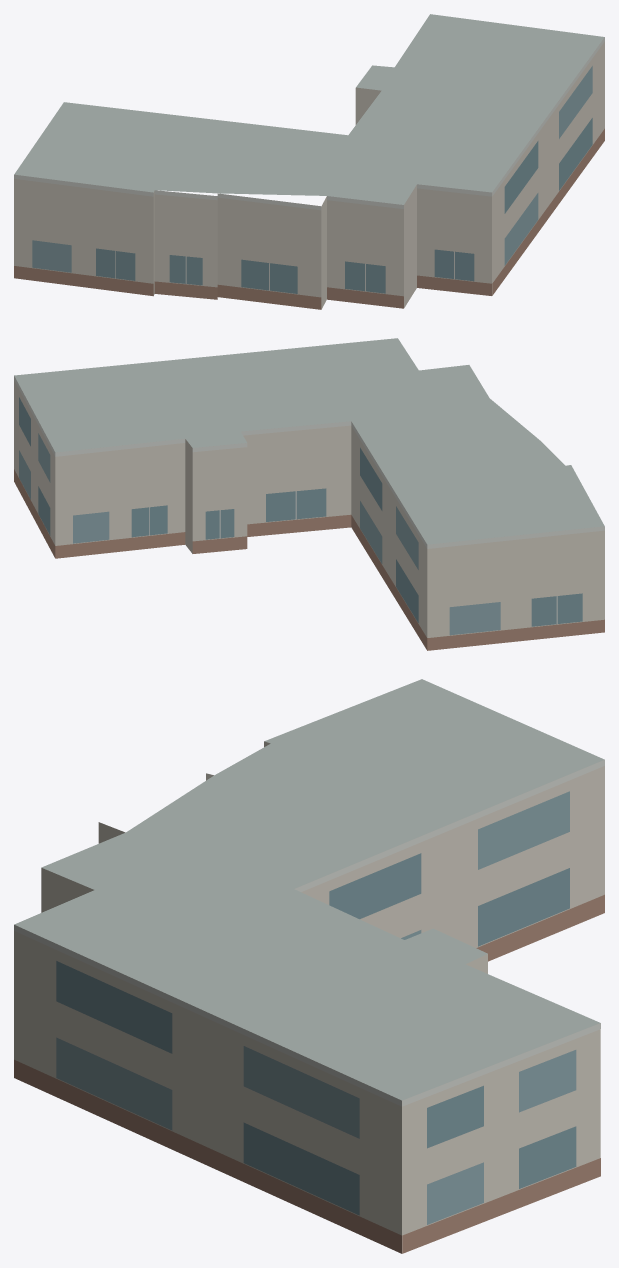
The model's file is survey-upis-32824556.glb.
3 renders of one model, top to bottom at view 1: azimuth 30°, elevation 25°; view 2: azimuth 150°, elevation 25°; view 3: azimuth 270°, elevation 25°, orthographic. The views are drawn at different scales.
Parts seen in each view (by area): view 1: survey-upis-32824556.tmp; view 2: survey-upis-32824556.tmp; view 3: survey-upis-32824556.tmp.
Part boxes in pixels (x1,y1,x2,y2): survey-upis-32824556.tmp: (14, 14, 604, 309); survey-upis-32824556.tmp: (14, 338, 604, 650); survey-upis-32824556.tmp: (14, 679, 604, 1253).
Size of the model in its own units: 35.98 by 6.1 by 21.31.
